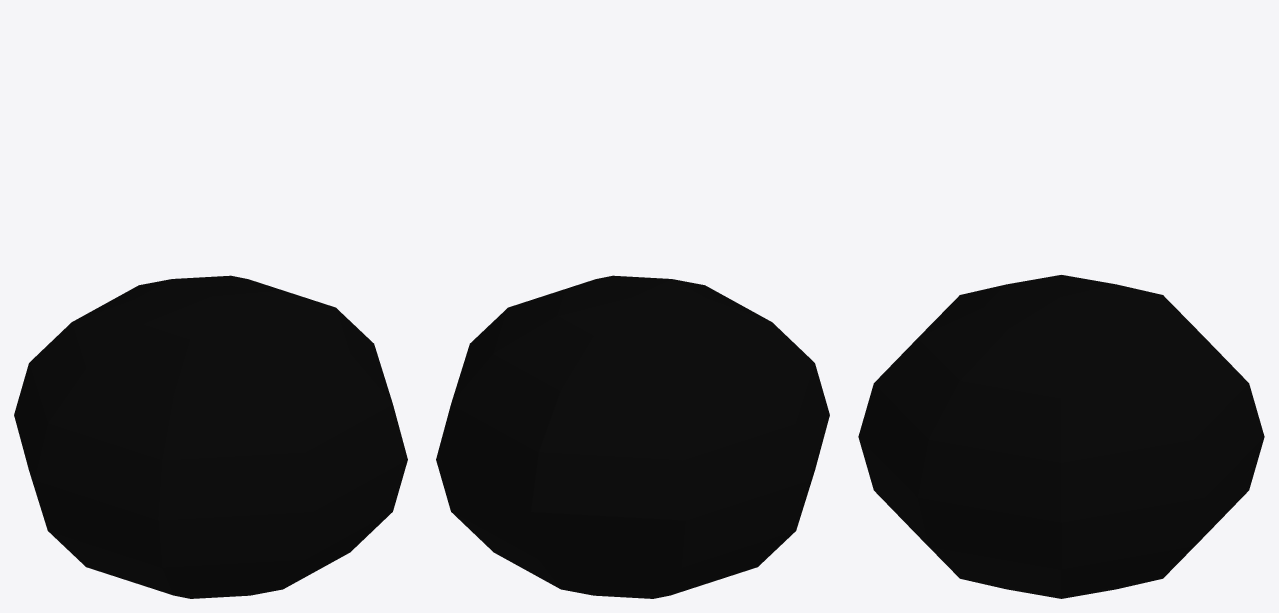
The model's file is BlightersBrew.glb.
The picture shows the model from 3 angles, left to right: view 1: azimuth 30°, elevation 25°; view 2: azimuth 150°, elevation 25°; view 3: azimuth 270°, elevation 25°; orthographic projection.
Parts seen in each view (by area): view 1: Item; view 2: Item; view 3: Item.
Boxes of the visible parts, left/top/right/bottom form: Item: left=14, top=275, right=407, bottom=598; Item: left=436, top=275, right=829, bottom=598; Item: left=858, top=275, right=1264, bottom=598.
Size of the model in its own units: 1.45 by 2.08 by 1.45.
Materials: 4 (4 with a texture image).
